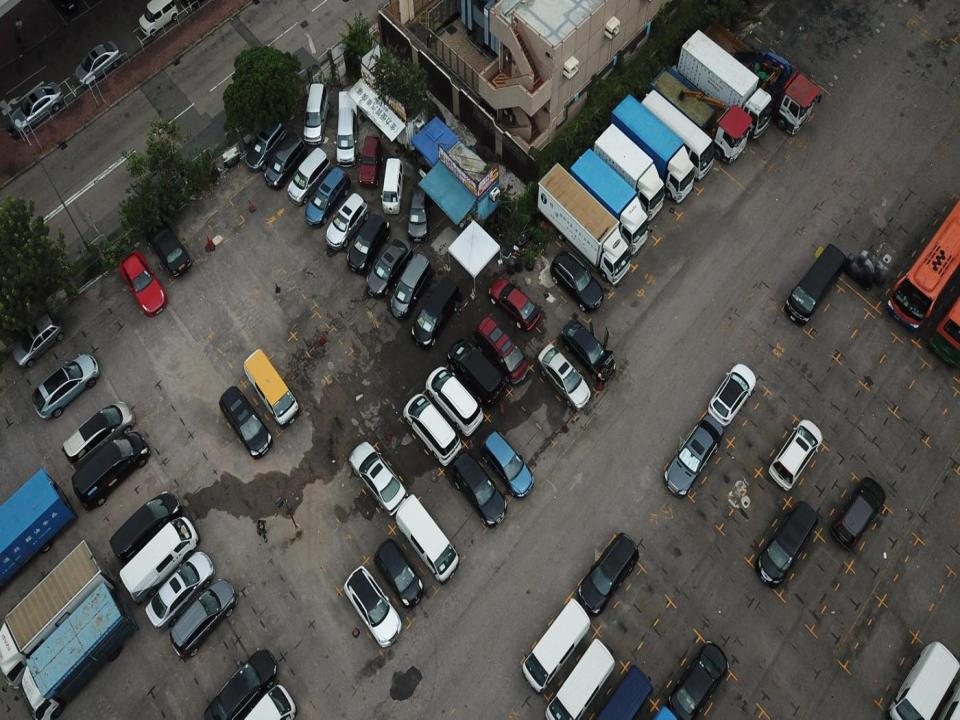bus: (885, 194, 960, 332), (642, 87, 716, 181), (930, 288, 960, 369)
car: (71, 433, 148, 510), (756, 501, 820, 592), (662, 410, 726, 498), (110, 489, 183, 566), (575, 530, 639, 615), (144, 552, 210, 631), (170, 580, 235, 660), (450, 443, 509, 531), (62, 402, 136, 471), (343, 563, 403, 647), (205, 651, 279, 719), (422, 360, 485, 439), (31, 351, 99, 423), (345, 437, 406, 514), (830, 472, 890, 548), (668, 642, 727, 716), (767, 414, 822, 490), (218, 384, 272, 461), (404, 394, 460, 464), (482, 424, 532, 502), (556, 318, 616, 383), (446, 338, 503, 406), (477, 312, 530, 384), (483, 272, 542, 336), (411, 275, 463, 346), (537, 345, 592, 412), (548, 250, 607, 312), (372, 536, 423, 606), (117, 252, 170, 317), (365, 236, 413, 302), (12, 313, 67, 370), (141, 217, 189, 278), (12, 80, 64, 136), (303, 165, 349, 226), (707, 363, 756, 420), (245, 115, 291, 174), (344, 213, 388, 273), (325, 192, 369, 252), (392, 250, 427, 322), (286, 146, 327, 207), (235, 681, 296, 719), (73, 38, 119, 86), (265, 130, 303, 186), (304, 80, 332, 144), (137, 0, 179, 37), (406, 178, 434, 233), (333, 105, 355, 162), (359, 134, 382, 188)
truck: (0, 537, 117, 686), (697, 16, 818, 136), (20, 582, 129, 715), (536, 161, 633, 288), (676, 30, 774, 139), (648, 64, 752, 164), (611, 87, 695, 203), (0, 470, 75, 593), (572, 149, 653, 256), (590, 120, 664, 223)
van: (519, 598, 594, 696), (119, 510, 201, 598), (882, 642, 960, 718), (543, 637, 614, 719), (783, 244, 847, 332), (244, 348, 300, 422), (592, 666, 656, 719)
